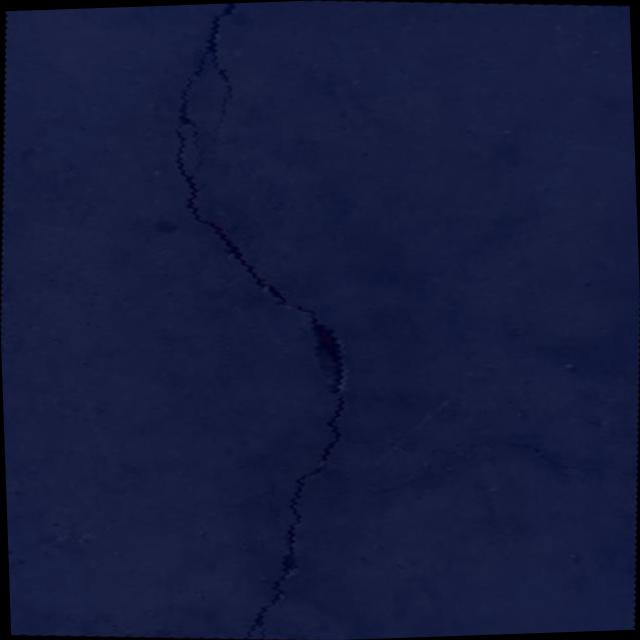crack: (144, 0, 417, 640), (386, 428, 640, 486)
